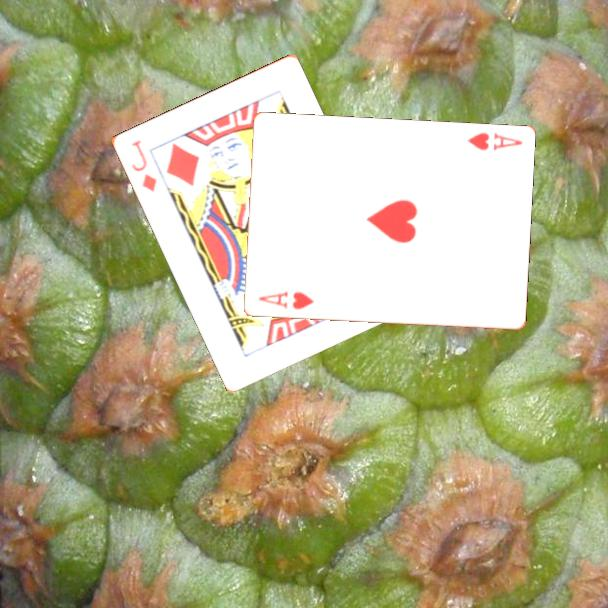d11: (128, 136, 159, 195)
h01: (464, 129, 525, 154), (255, 288, 317, 312)
